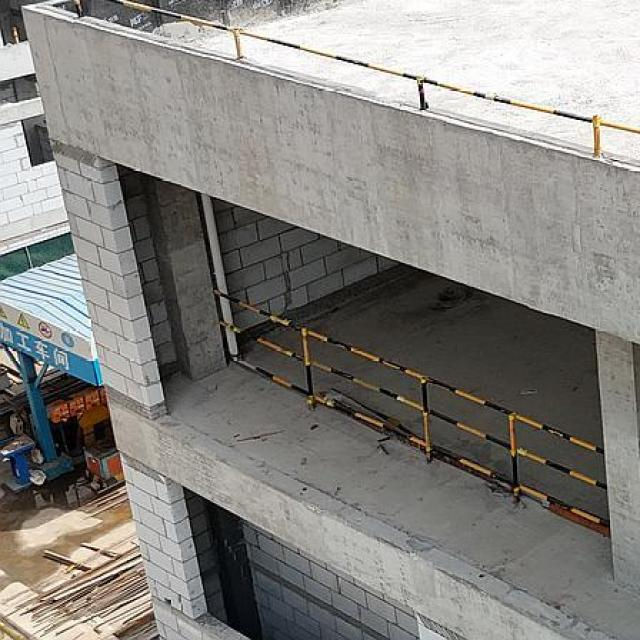edge_guardrail: (212, 287, 612, 527), (74, 0, 640, 157)
